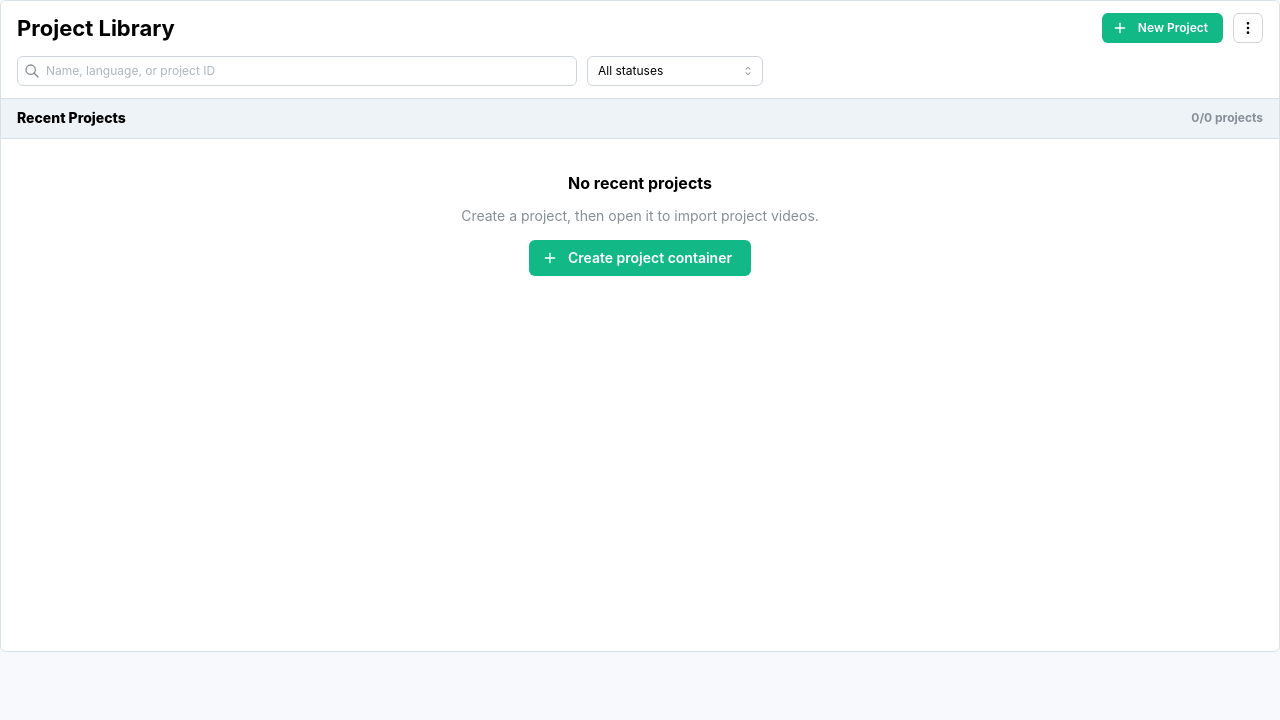
Test: ProjectCenterPage › guides an empty project library toward creating a project container
Expected: the text "No recent projects" is shown, [568,171,712,196]
Click the button "Create project container" at [640, 258], box [529,240,751,276]
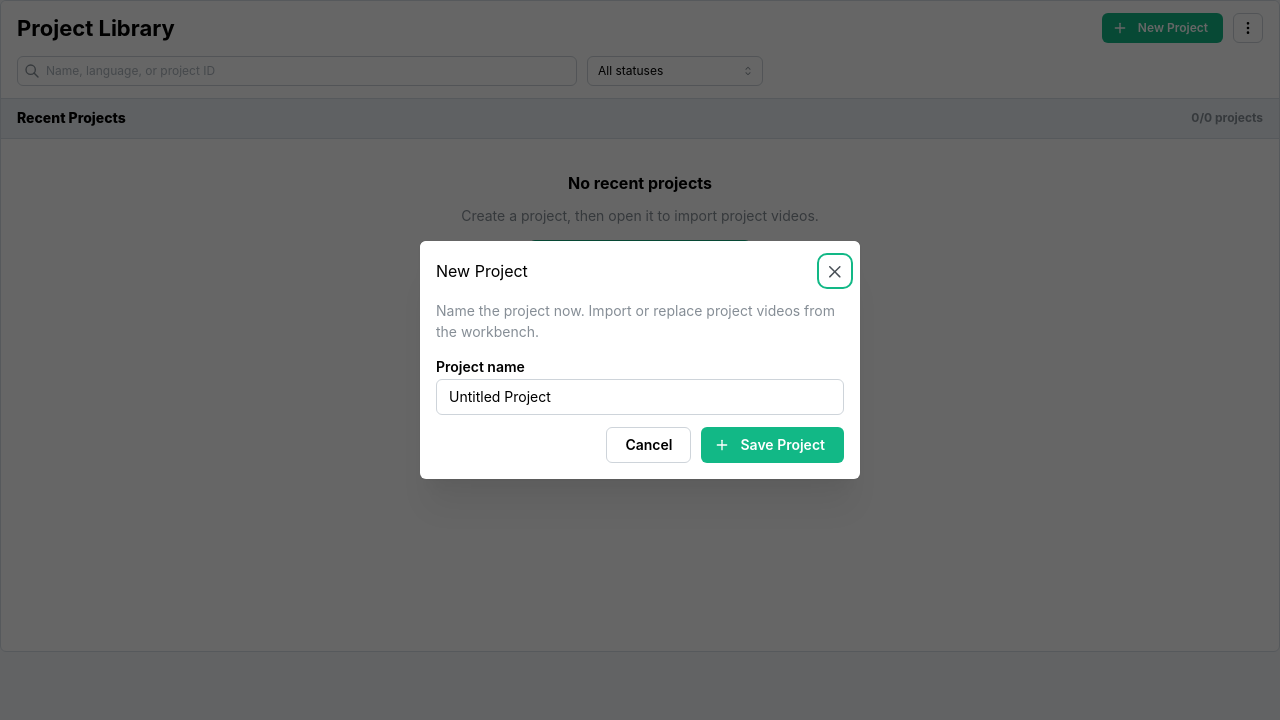
Now the text "Name the project now. Import or replace project videos from the workbench." is shown, box [436,301,844,342]
